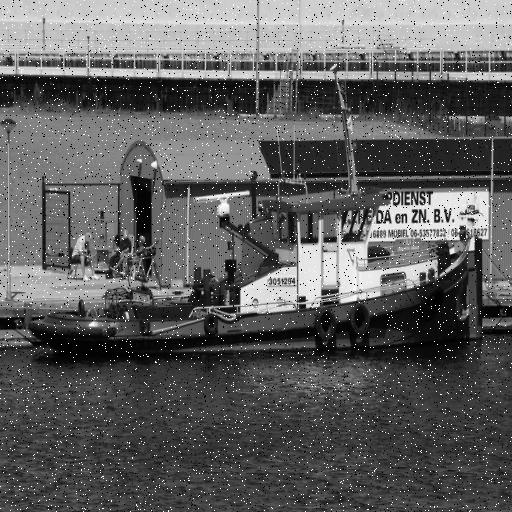tugboat: (24, 172, 488, 364)
